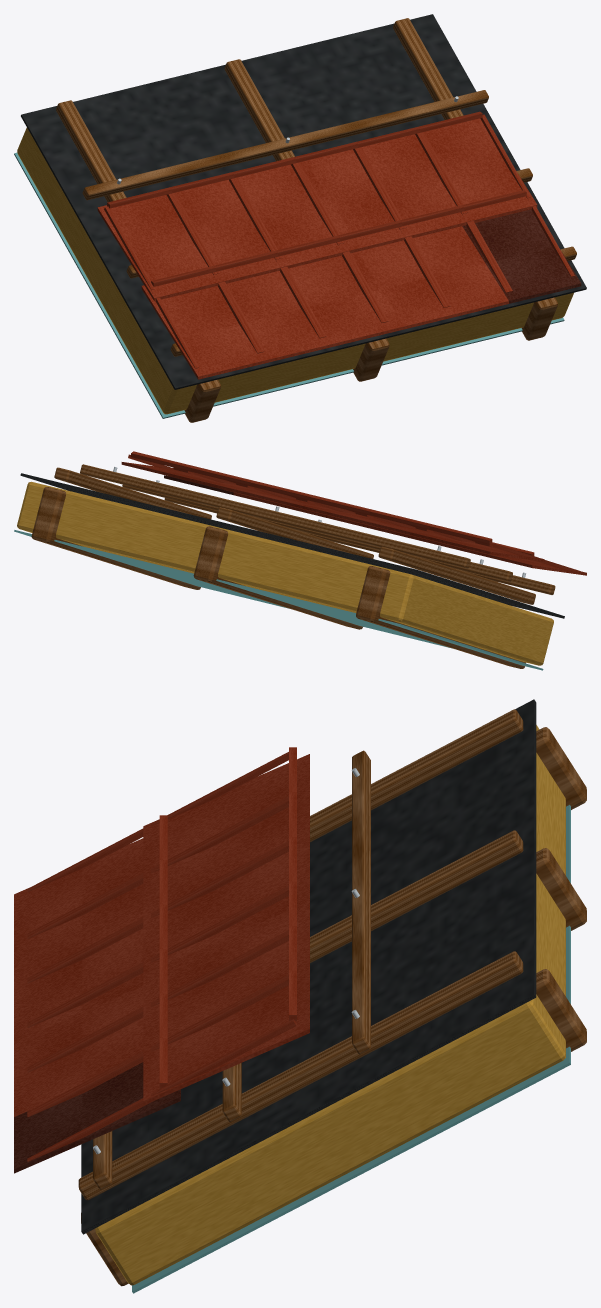
File: modell.glb
3 renders of one model, top to bottom at view 1: azimuth 30°, elevation 25°; view 2: azimuth 150°, elevation 25°; view 3: azimuth 270°, elevation 25°, orthographic. The views are drawn at different scales.
Parts seen in each view (by area): view 1: s01-deckziegel_deckung, s01-zusatzebene_zusatzebene, s01-daemmung_daemmung, s01-lattung_lattung, s01-deckziegel_deckung.001, s01-sparren_tragwerk, s01-luftdichtheit_luftdichtheit; view 2: s01-daemmung_daemmung, s01-lattung_lattung, s01-deckziegel_deckung, s01-sparren_tragwerk, s01-luftdichtheit_luftdichtheit, s01-zusatzebene_zusatzebene; view 3: s01-deckziegel_deckung, s01-zusatzebene_zusatzebene, s01-daemmung_daemmung, s01-lattung_lattung, s01-deckziegel_deckung.001, s01-sparren_tragwerk, s01-luftdichtheit_luftdichtheit.
Boxes of the visible parts, x1,y1,x2,y2 form: s01-deckziegel_deckung: (97, 111, 574, 379); s01-zusatzebene_zusatzebene: (21, 14, 586, 389); s01-daemmung_daemmung: (17, 127, 573, 414); s01-lattung_lattung: (56, 18, 576, 356); s01-deckziegel_deckung.001: (462, 209, 581, 303); s01-sparren_tragwerk: (184, 297, 557, 422); s01-luftdichtheit_luftdichtheit: (14, 152, 564, 418); s01-daemmung_daemmung: (17, 481, 553, 665); s01-lattung_lattung: (54, 464, 555, 604); s01-deckziegel_deckung: (121, 451, 586, 575); s01-sparren_tragwerk: (31, 487, 525, 668); s01-luftdichtheit_luftdichtheit: (14, 530, 543, 670); s01-zusatzebene_zusatzebene: (20, 473, 564, 618); s01-deckziegel_deckung: (14, 747, 309, 1161); s01-zusatzebene_zusatzebene: (81, 699, 536, 1234); s01-daemmung_daemmung: (95, 725, 565, 1285); s01-lattung_lattung: (78, 709, 523, 1200); s01-deckziegel_deckung.001: (14, 1062, 180, 1173); s01-sparren_tragwerk: (81, 727, 586, 1286); s01-luftdichtheit_luftdichtheit: (132, 805, 570, 1293).
Size of the model in its own units: 1.59 by 0.8176 by 1.3.
7 materials, 5 textured.
